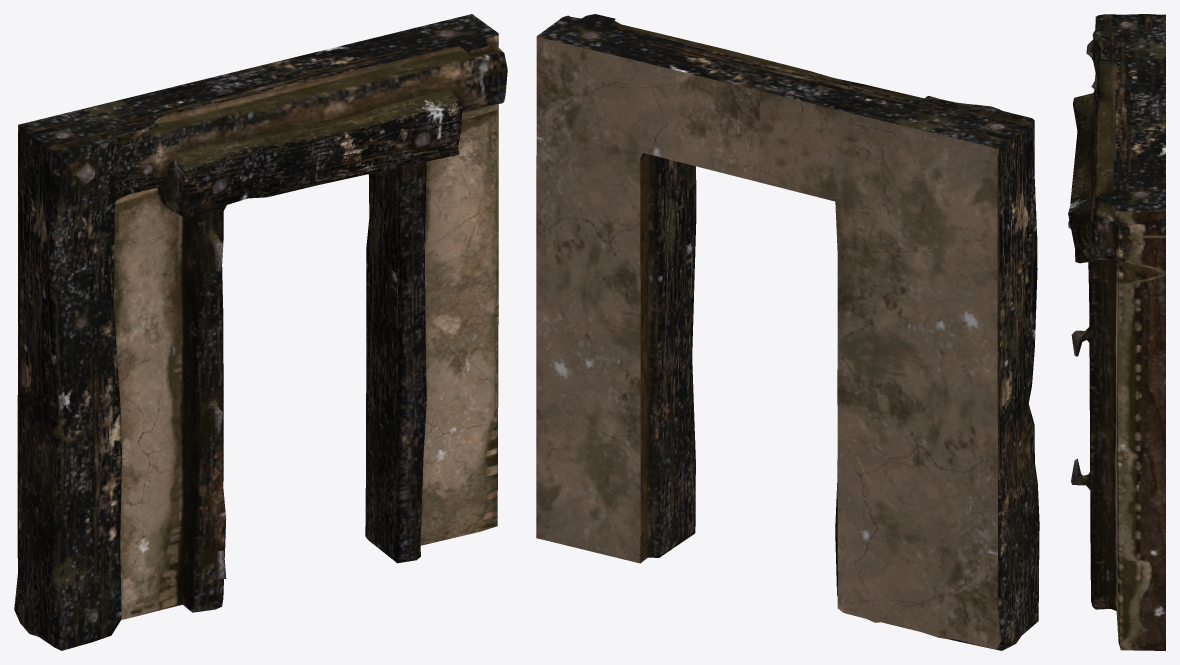
File: Medieval_WallTall_DoorCropped.FBX
3 views of the same model, side by side, from view 1: azimuth 30°, elevation 25°; view 2: azimuth 150°, elevation 25°; view 3: azimuth 270°, elevation 25° (orthographic). The views are drawn at different scales.
Parts seen in each view (by area): view 1: Medieval_WallTall_DoorCropped_LOD0; view 2: Medieval_WallTall_DoorCropped_LOD0; view 3: Medieval_WallTall_DoorCropped_LOD0.
Boxes of the visible parts, bbox=[...] form: Medieval_WallTall_DoorCropped_LOD0: bbox=[14, 14, 507, 650]; Medieval_WallTall_DoorCropped_LOD0: bbox=[536, 14, 1039, 650]; Medieval_WallTall_DoorCropped_LOD0: bbox=[1068, 14, 1165, 650].
Size of what is drawn, in the model's own units: 3.07 by 3.18 by 0.6357.
